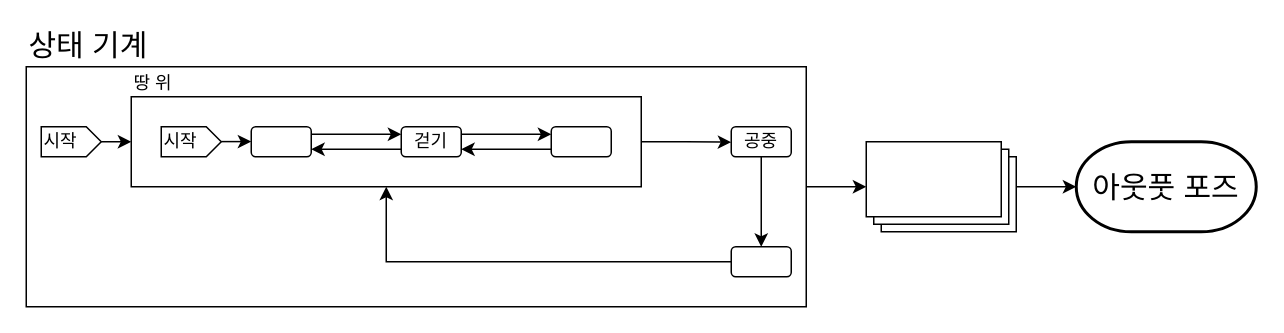
The diagram is 1284 pixels wide and 333 high, and some of its shapes have lost their labels. Here are the shapes that lost their labels. From the top down, the centre of each, then its label:
the point at 280,141: Idle
the point at 580,141: 달리기
the point at 940,186: 슬롯
the point at 760,261: 착지
